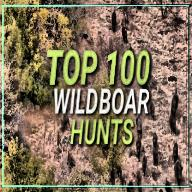boar: (138, 150, 149, 180), (171, 140, 179, 162), (171, 90, 179, 108), (174, 162, 182, 180), (111, 7, 116, 32), (137, 136, 143, 155), (170, 114, 178, 128), (138, 118, 146, 132), (152, 149, 158, 167), (123, 22, 127, 43), (154, 130, 157, 145)
